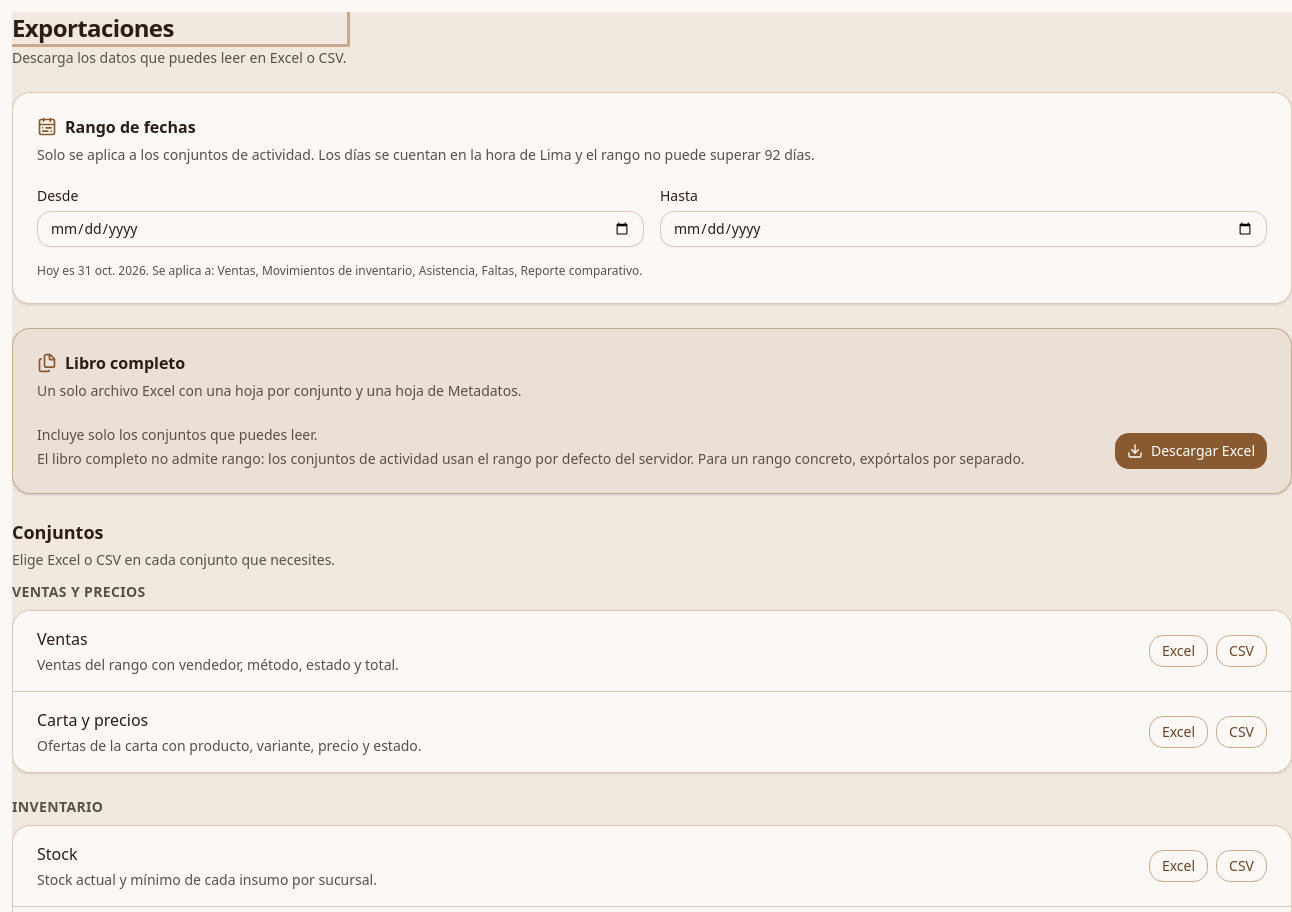
ExportacionesPage: validación del rango › exige el rango a los conjuntos de actividad y enfoca Desde
Check: the heading "Exportaciones" is shown, box [12,12,347,44]
Click the 1st button "Excel": (1178, 651) [1149,635,1208,667]
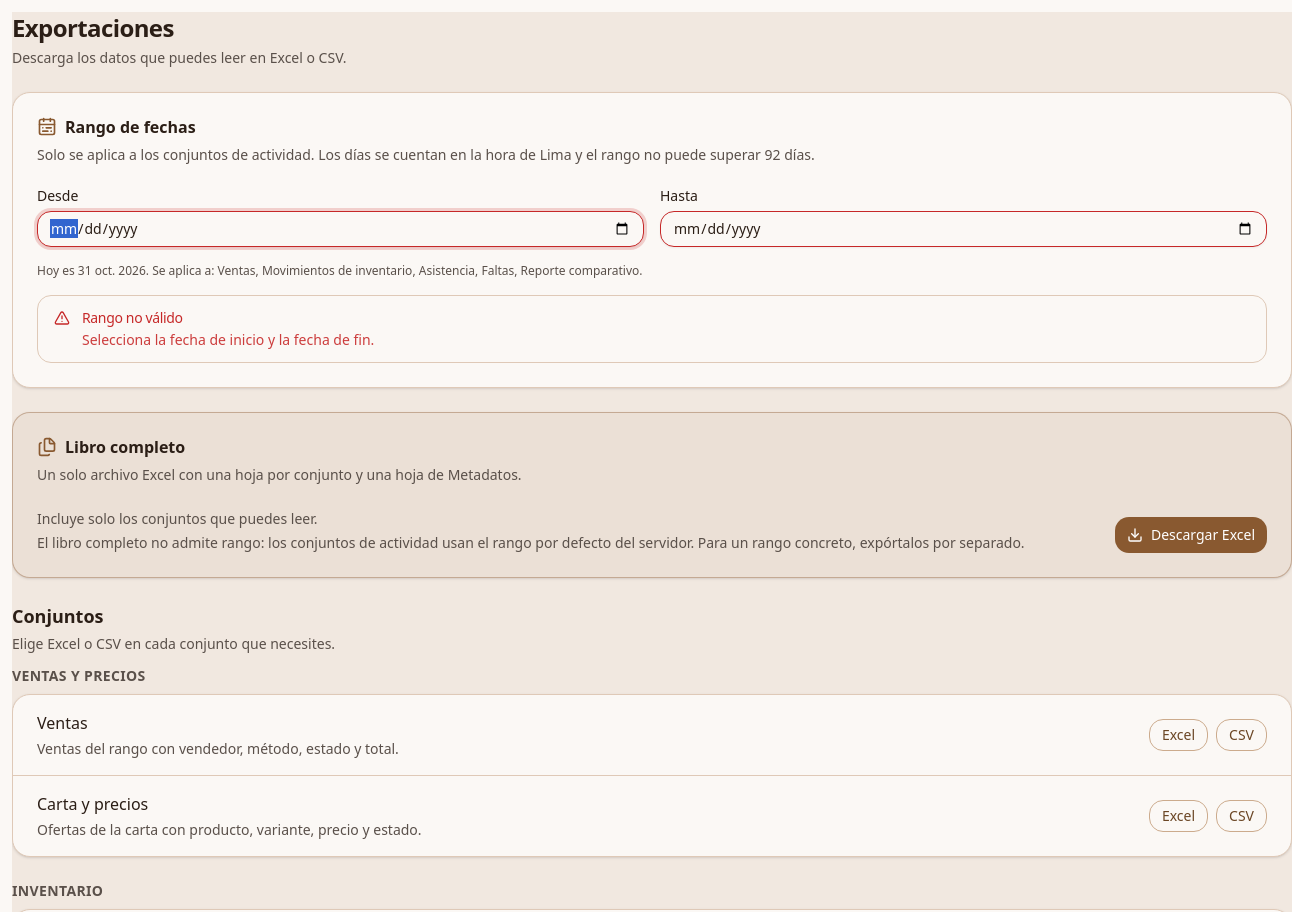
Check: the text "Selecciona la fecha de inicio y la fecha de fin." is shown, box [82,330,374,349]
